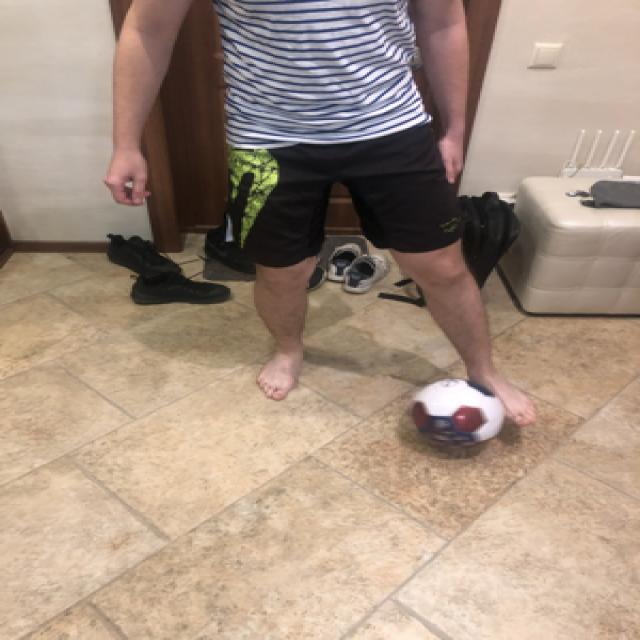soccer_ball: (406, 378, 502, 450)
